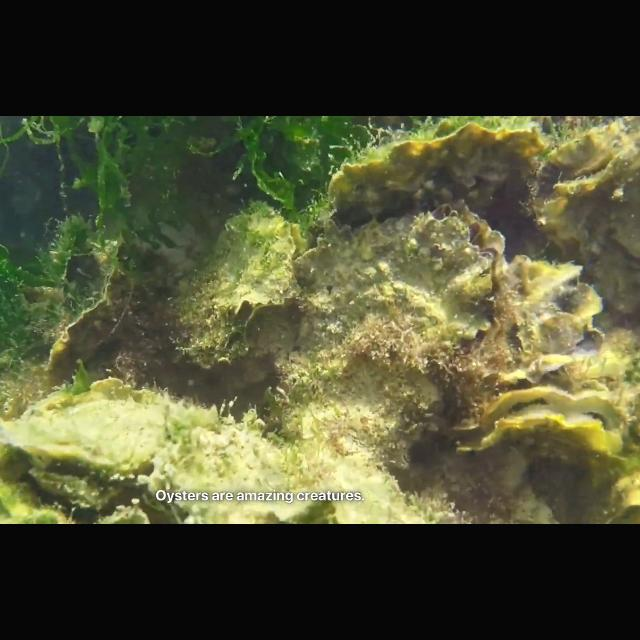Oyster-Closed: (332, 120, 552, 228), (50, 263, 178, 383)
Oyster-Open: (282, 194, 524, 472), (0, 393, 182, 525), (534, 118, 640, 312), (158, 394, 286, 524), (460, 381, 640, 471), (514, 249, 610, 379), (227, 209, 313, 325), (177, 252, 261, 366), (588, 469, 640, 525)
